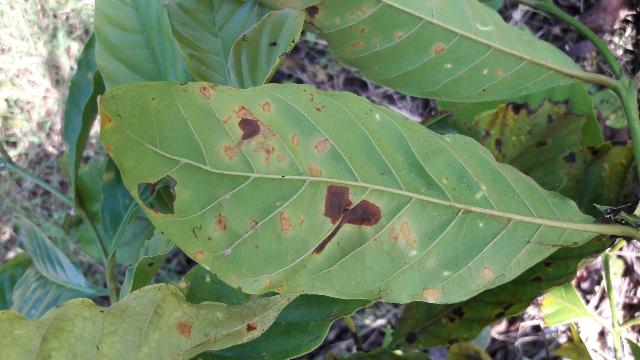rust_level_2: (97, 80, 611, 304)
